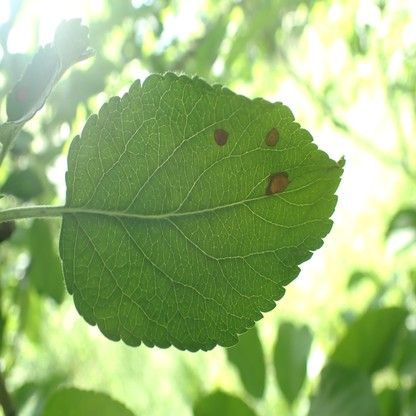frogeye: (265, 171, 291, 195), (265, 127, 280, 147), (214, 128, 229, 146)
